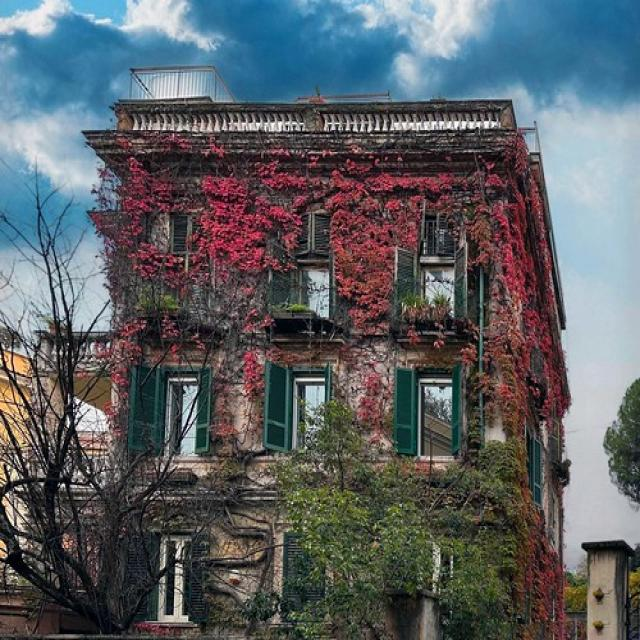Normal_building: (79, 59, 570, 635)
